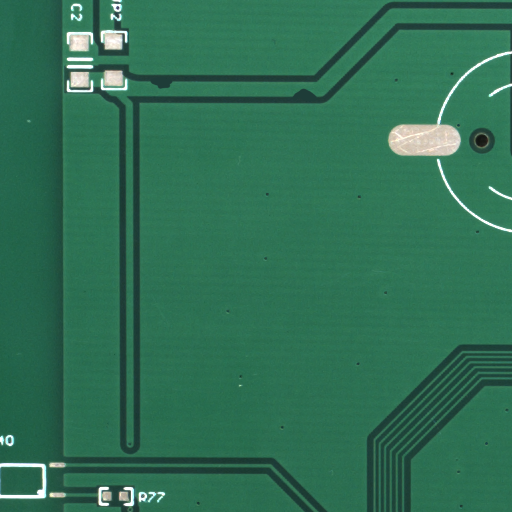Mouse_bite: (162, 81, 194, 102), (305, 94, 336, 113)
